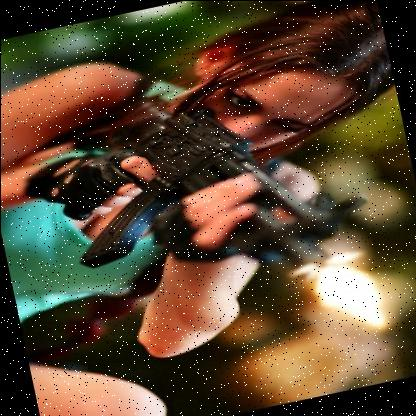rifle: (45, 60, 380, 322)
